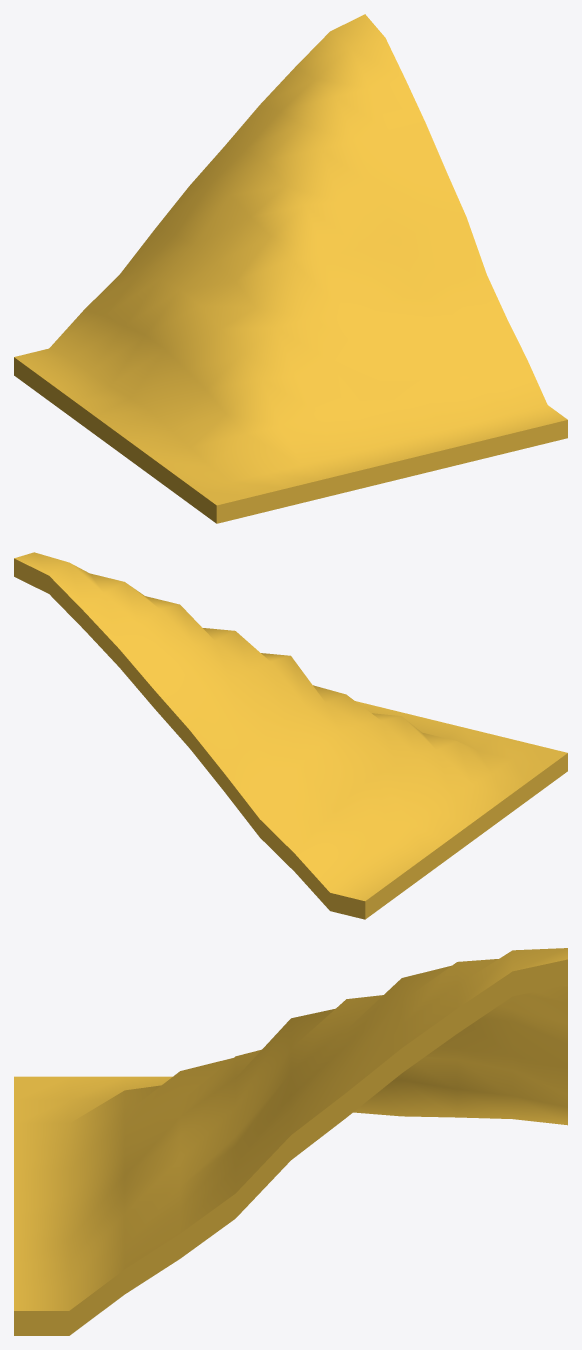
The model's file is Steil - Mitte - Ecke a - a.fbx.
3 renders of one model, top to bottom at view 1: azimuth 30°, elevation 25°; view 2: azimuth 150°, elevation 25°; view 3: azimuth 270°, elevation 25°, orthographic. The views are drawn at different scales.
Parts seen in each view (by area): view 1: Steil - Mitte - Ecke a - a; view 2: Steil - Mitte - Ecke a - a; view 3: Steil - Mitte - Ecke a - a.
Part boxes in pixels (x1,y1,x2,y2): Steil - Mitte - Ecke a - a: (14, 14, 567, 523); Steil - Mitte - Ecke a - a: (14, 552, 567, 919); Steil - Mitte - Ecke a - a: (14, 948, 567, 1335).
Size of the model in its own units: 394 by 295 by 394.
